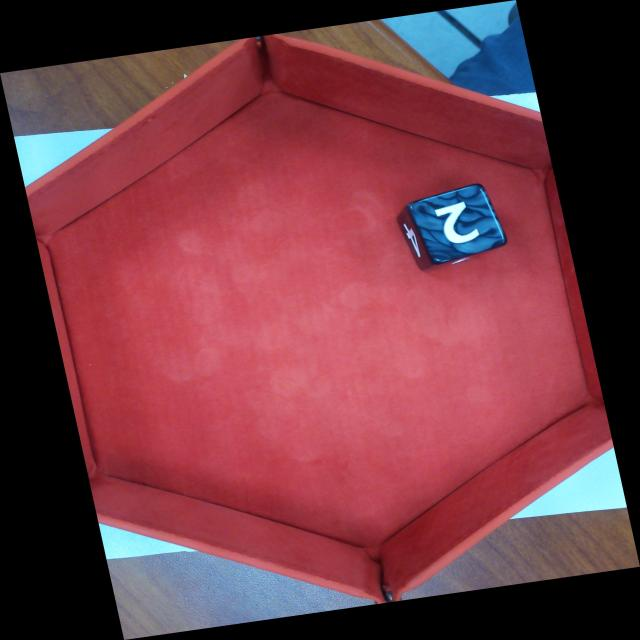dice: (402, 180, 511, 266)
